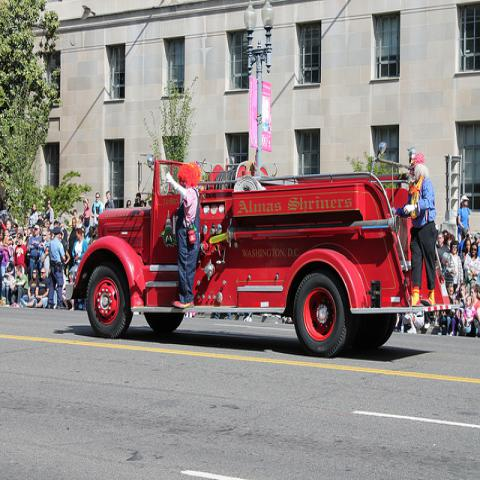truck: (64, 138, 457, 352)
